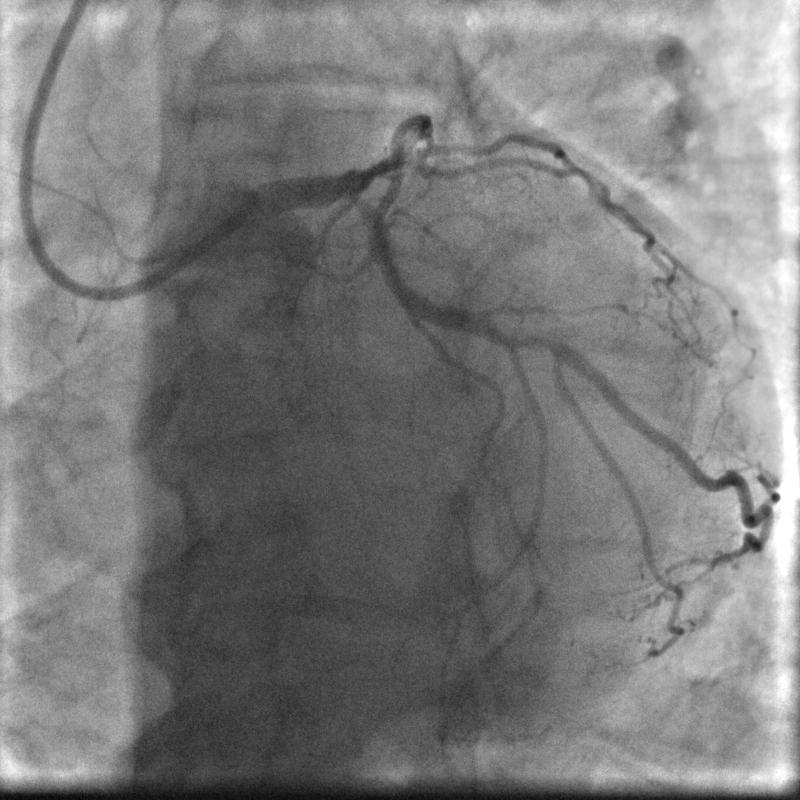Stenosis: (509, 331, 559, 353)
